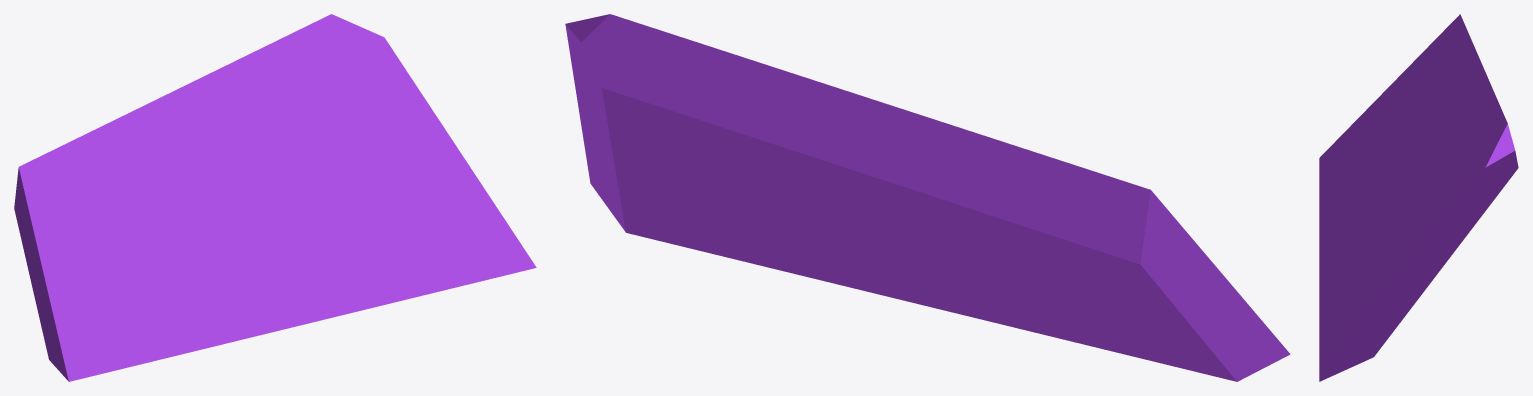
File: Window_130_2_chunks.fbx
3 views of the same model, side by side, from view 1: azimuth 30°, elevation 25°; view 2: azimuth 150°, elevation 25°; view 3: azimuth 270°, elevation 25° (orthographic). The views are drawn at different scales.
Visible parts, largest first — view 1: Window_130_2_1, Window_130_2_3, Window_130_2_7, Window_130_2_9, Window_130_2_4, Window_130_2_6, Window_130_2_5, Window_130_2_8; view 2: Window_130_2_7, Window_130_2_1, Window_130_2_8, Window_130_2_0, Window_130_2_3, Window_130_2_4, Window_130_2_6, Window_130_2_2, Window_130_2_9; view 3: Window_130_2_1, Window_130_2_3, Window_130_2_7, Window_130_2_9, Window_130_2_4, Window_130_2_6, Window_130_2_5, Window_130_2_8.
Boxes of the visible parts, left/top/right/bottom form: Window_130_2_1: left=235, top=14, right=536, bottom=280; Window_130_2_3: left=238, top=199, right=484, bottom=337; Window_130_2_7: left=14, top=126, right=131, bottom=340; Window_130_2_9: left=103, top=93, right=245, bottom=229; Window_130_2_4: left=50, top=256, right=248, bottom=381; Window_130_2_6: left=44, top=229, right=206, bottom=363; Window_130_2_5: left=179, top=186, right=301, bottom=299; Window_130_2_8: left=169, top=61, right=258, bottom=192; Window_130_2_7: left=982, top=142, right=1256, bottom=366; Window_130_2_1: left=565, top=14, right=777, bottom=237; Window_130_2_8: left=774, top=68, right=1017, bottom=263; Window_130_2_0: left=673, top=92, right=867, bottom=221; Window_130_2_3: left=647, top=209, right=979, bottom=318; Window_130_2_4: left=963, top=287, right=1290, bottom=381; Window_130_2_6: left=965, top=263, right=1278, bottom=381; Window_130_2_2: left=770, top=209, right=1016, bottom=295; Window_130_2_9: left=891, top=105, right=1004, bottom=166; Window_130_2_1: left=1319, top=90, right=1518, bottom=381; Window_130_2_3: left=1319, top=203, right=1396, bottom=356; Window_130_2_7: left=1354, top=14, right=1472, bottom=122; Window_130_2_9: left=1393, top=44, right=1482, bottom=165; Window_130_2_4: left=1319, top=146, right=1380, bottom=243; Window_130_2_6: left=1331, top=116, right=1404, bottom=161; Window_130_2_5: left=1345, top=158, right=1409, bottom=216; Window_130_2_8: left=1410, top=67, right=1492, bottom=166.
Size of the model in its own units: 983 by 422 by 369.
